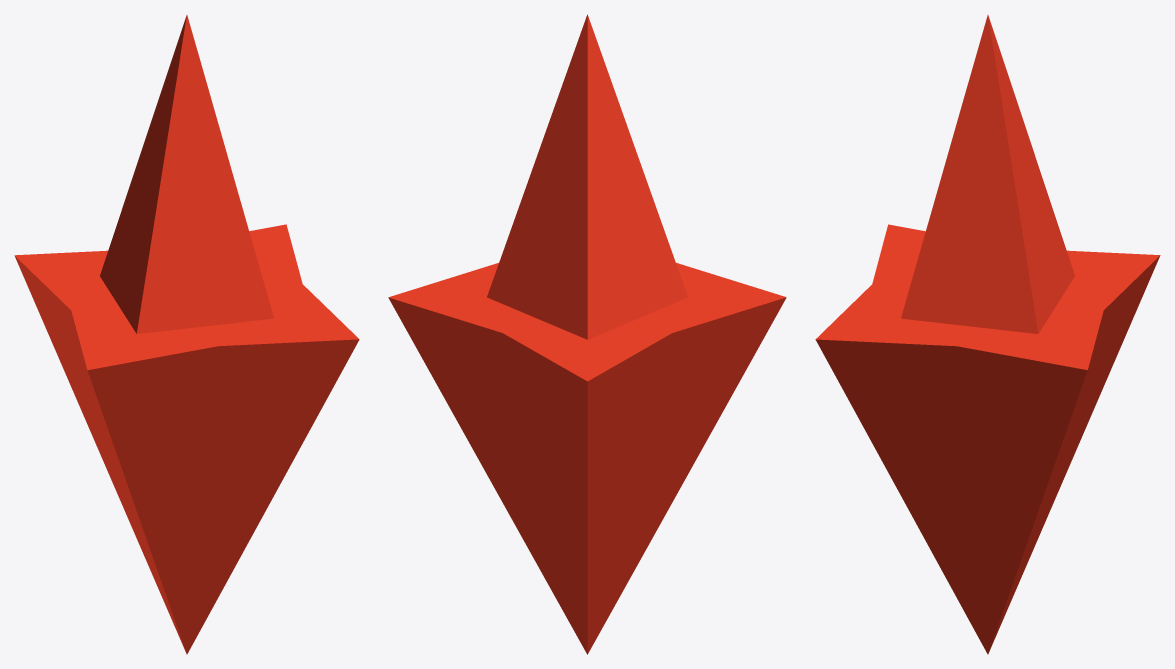
Rendered from newArrow.fbx.
3 renders of one model, left to right at view 1: azimuth 30°, elevation 25°; view 2: azimuth 150°, elevation 25°; view 3: azimuth 270°, elevation 25°, orthographic.
Visible parts, largest first — view 1: Cone; view 2: Cone; view 3: Cone.
Boxes of the visible parts, box(x1,y1,x2,y2) form: Cone: box(14, 15, 359, 654); Cone: box(388, 14, 786, 654); Cone: box(815, 15, 1160, 654).
Size of the model in its own units: 85.31 by 175 by 85.31.
